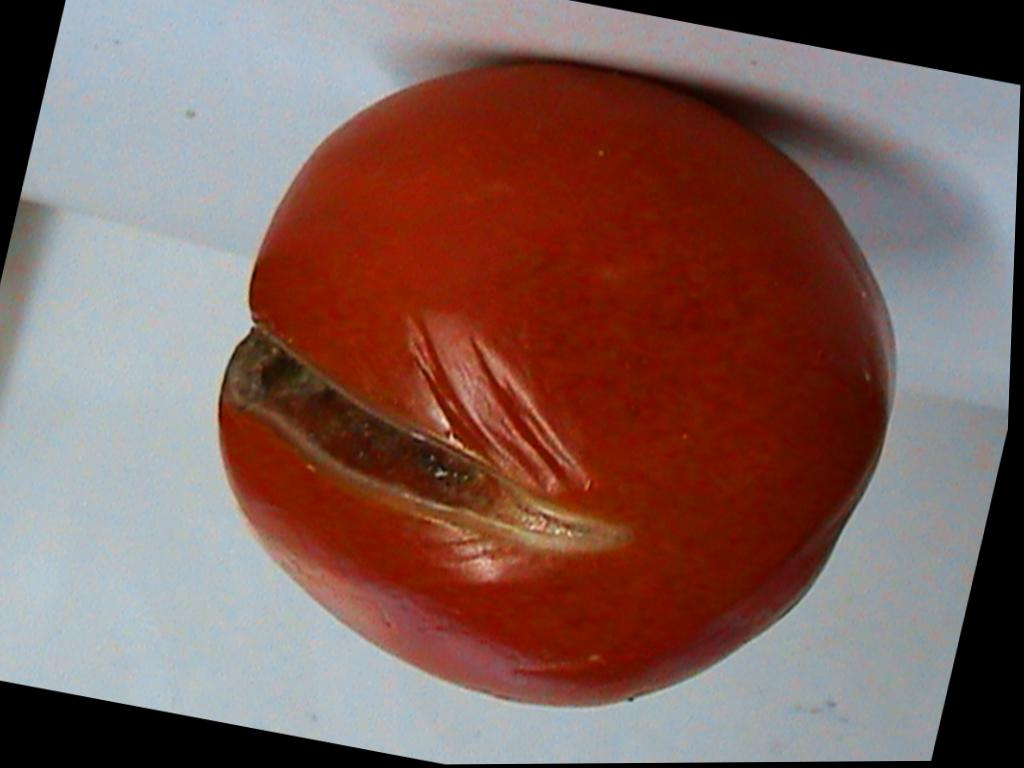surface_damage: (224, 327, 632, 551)
tomato: (220, 66, 895, 705)
